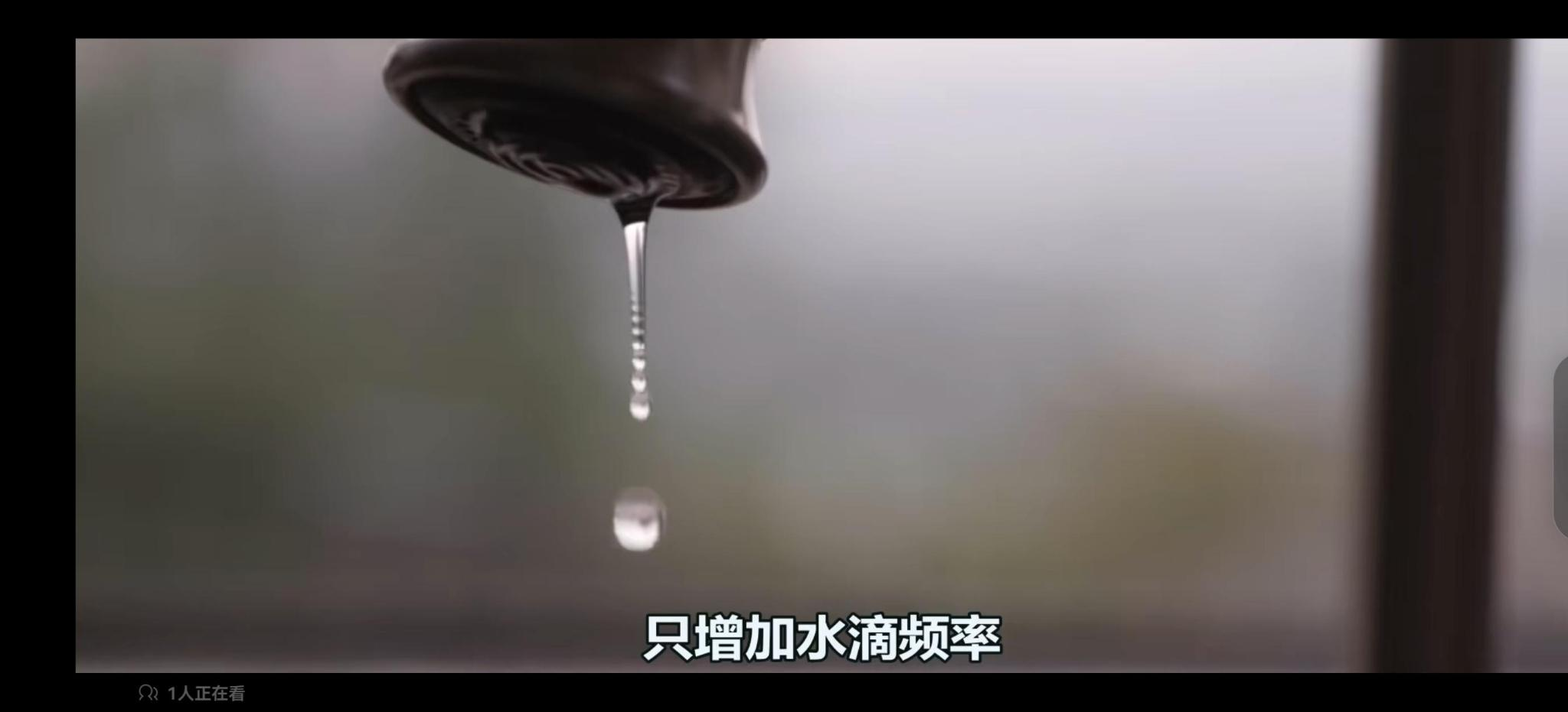water drop: (613, 194, 657, 422), (611, 487, 670, 552)
